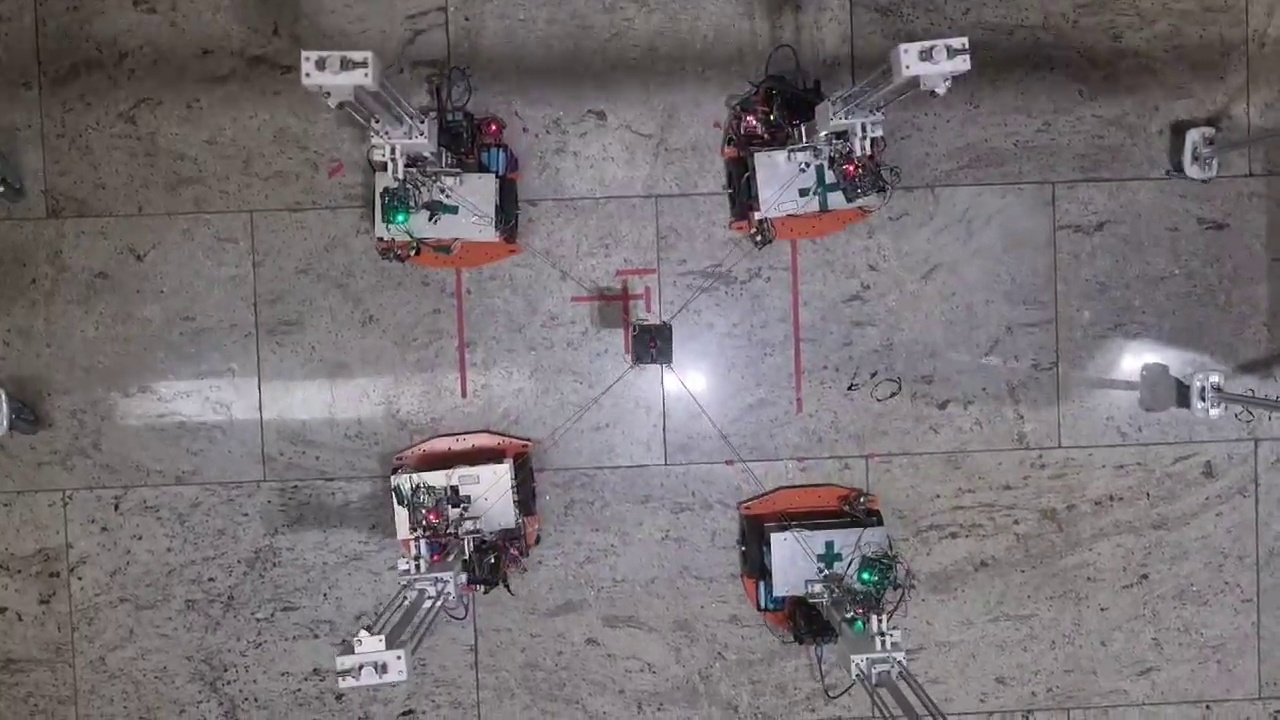e0: (631, 323, 673, 364)
r1: (744, 510, 882, 576)
r2: (725, 136, 881, 216)
r3: (374, 179, 516, 242)
r4: (392, 452, 535, 538)
y_+_axis_vector: (666, 448, 1060, 464)
y_-_axis_vector: (265, 464, 666, 481)
